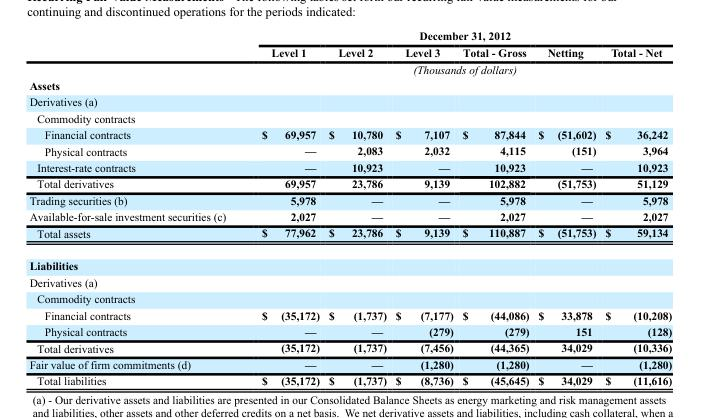table: (28, 29, 671, 386)
table column: (28, 29, 243, 386), (243, 29, 323, 386), (457, 29, 533, 386), (599, 29, 671, 386), (323, 29, 390, 386), (390, 29, 457, 386), (533, 29, 599, 386)
table column header: (28, 29, 671, 76)
table projected row header: (28, 249, 671, 273), (28, 76, 671, 93), (28, 109, 671, 126), (28, 273, 671, 290), (28, 93, 671, 109), (28, 290, 671, 306)
table row: (28, 224, 671, 249), (28, 249, 671, 273), (28, 43, 671, 60), (28, 76, 671, 93), (28, 109, 671, 126), (28, 158, 671, 175), (28, 191, 671, 208), (28, 273, 671, 290), (28, 322, 671, 339), (28, 355, 671, 372), (28, 60, 671, 76), (28, 93, 671, 109), (28, 126, 671, 142), (28, 142, 671, 158), (28, 175, 671, 191), (28, 208, 671, 224), (28, 290, 671, 306), (28, 306, 671, 322), (28, 339, 671, 355), (28, 29, 671, 43), (28, 372, 671, 386)
table spanning cell: (243, 60, 671, 76), (243, 29, 671, 43)
